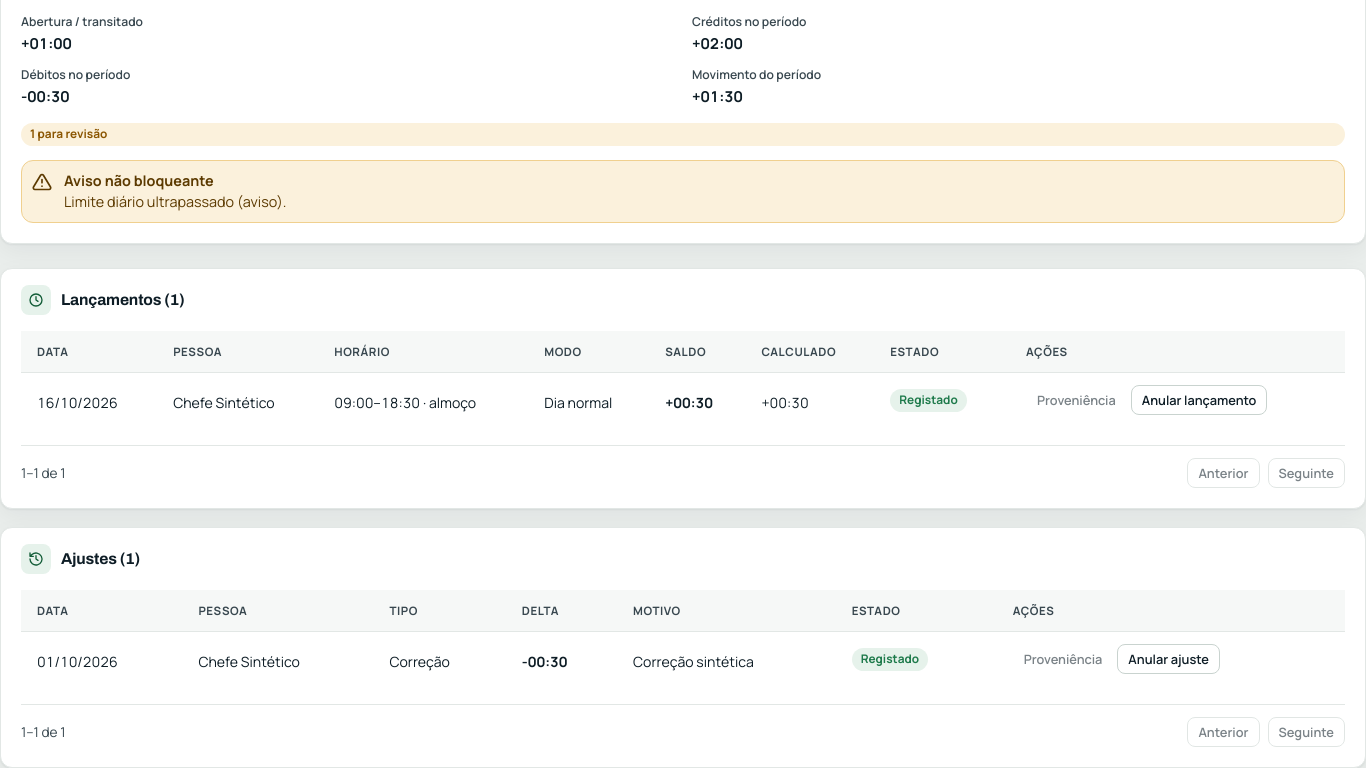
Banco de Horas › não repete uma anulação conhecida e expõe o conflito 409 do backend
(page scrolled)
Click the button "Anular lançamento".
click(1199, 400)  # box left=1131, top=385, right=1267, bottom=415
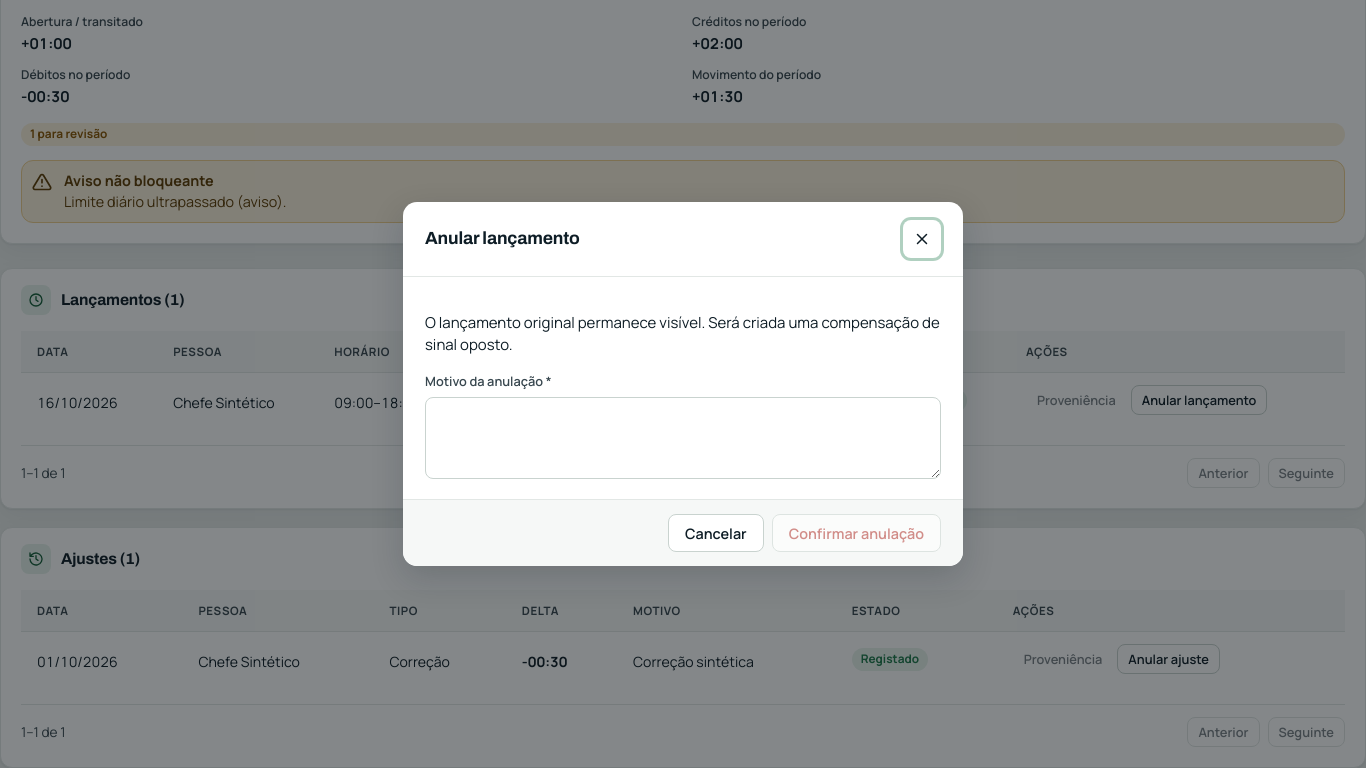
Type "Tentativa duplicada" into the text box labelled "Motivo da anulação *".
click(683, 438); type("Tentativa duplicada")  # box left=425, top=397, right=941, bottom=479
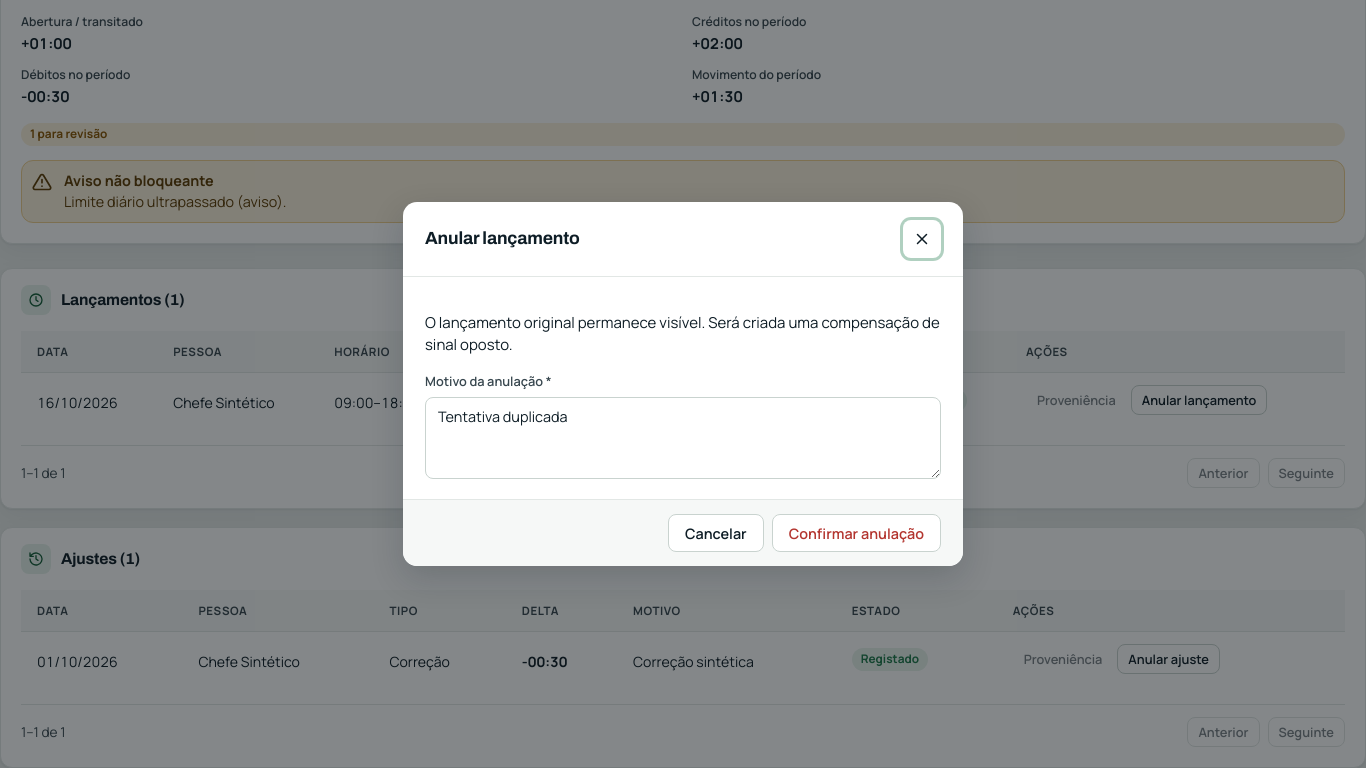
Click the button "Confirmar anulação".
click(856, 534)  # box left=772, top=514, right=941, bottom=552
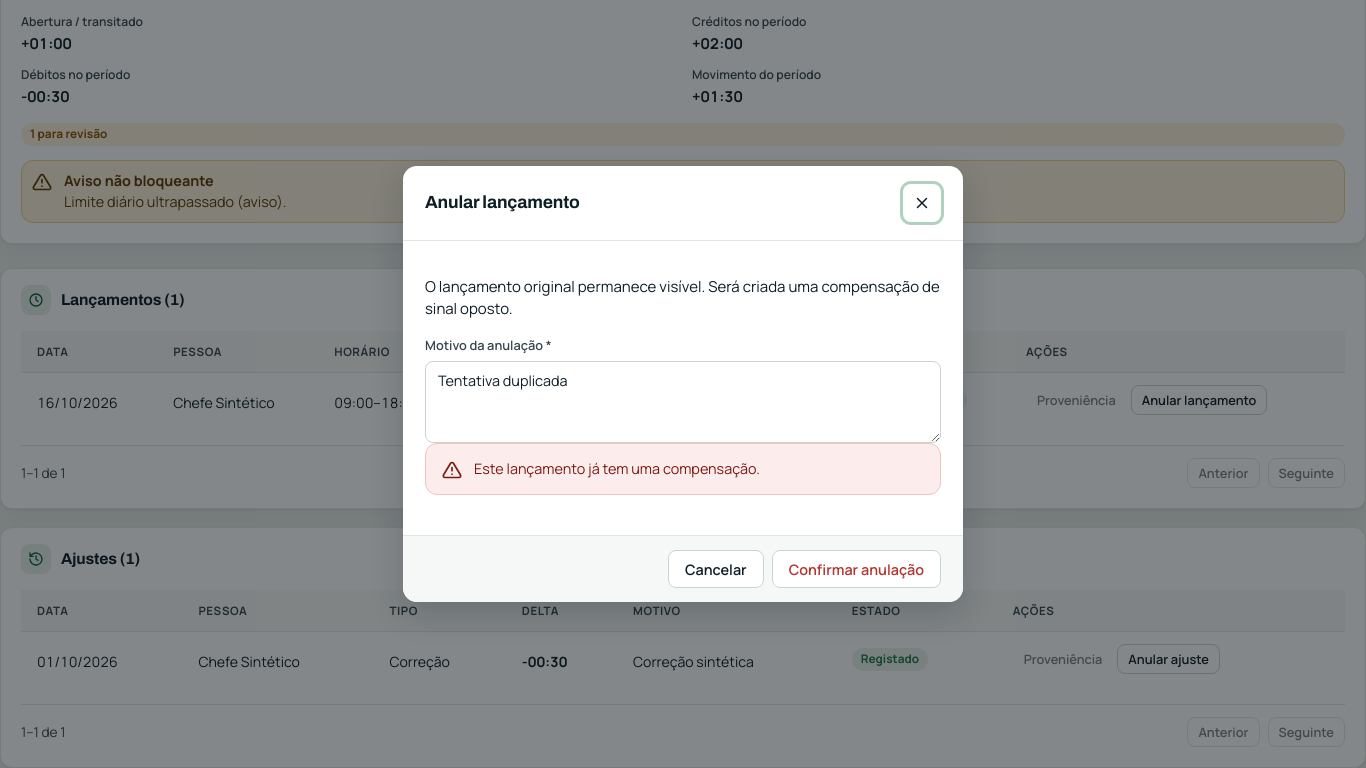
Expected: the text "Este lançamento já tem uma compensação." is shown, left=474, top=460, right=760, bottom=478
